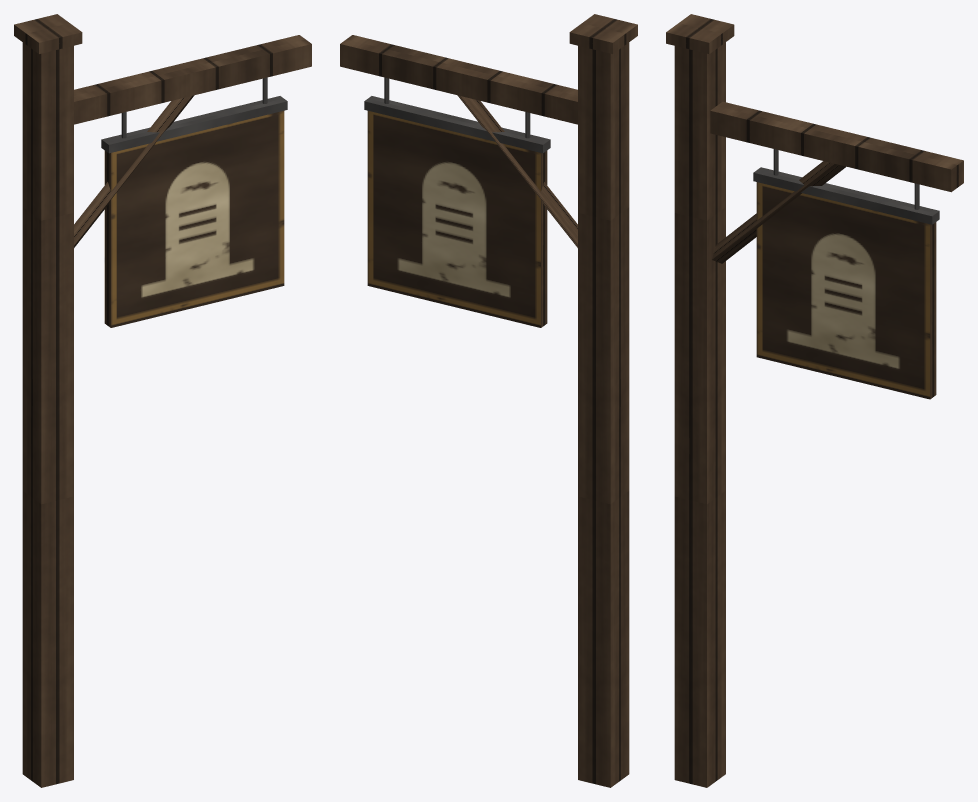
The model's file is Sign_Service_cimetiere.gltf.
3 renders of one model, left to right at view 1: azimuth 30°, elevation 25°; view 2: azimuth 150°, elevation 25°; view 3: azimuth 330°, elevation 25°, orthographic.
Visible parts, largest first — view 1: Sign_Service_cimetiere; view 2: Sign_Service_cimetiere; view 3: Sign_Service_cimetiere.
Part boxes in pixels (box(x1,y1,x2,y2)): Sign_Service_cimetiere: box(14, 14, 311, 787); Sign_Service_cimetiere: box(340, 14, 637, 787); Sign_Service_cimetiere: box(666, 14, 963, 787).
Bounding box in the file's own units: 1.03 × 2.64 × 0.16.
3 materials, 3 textured.
